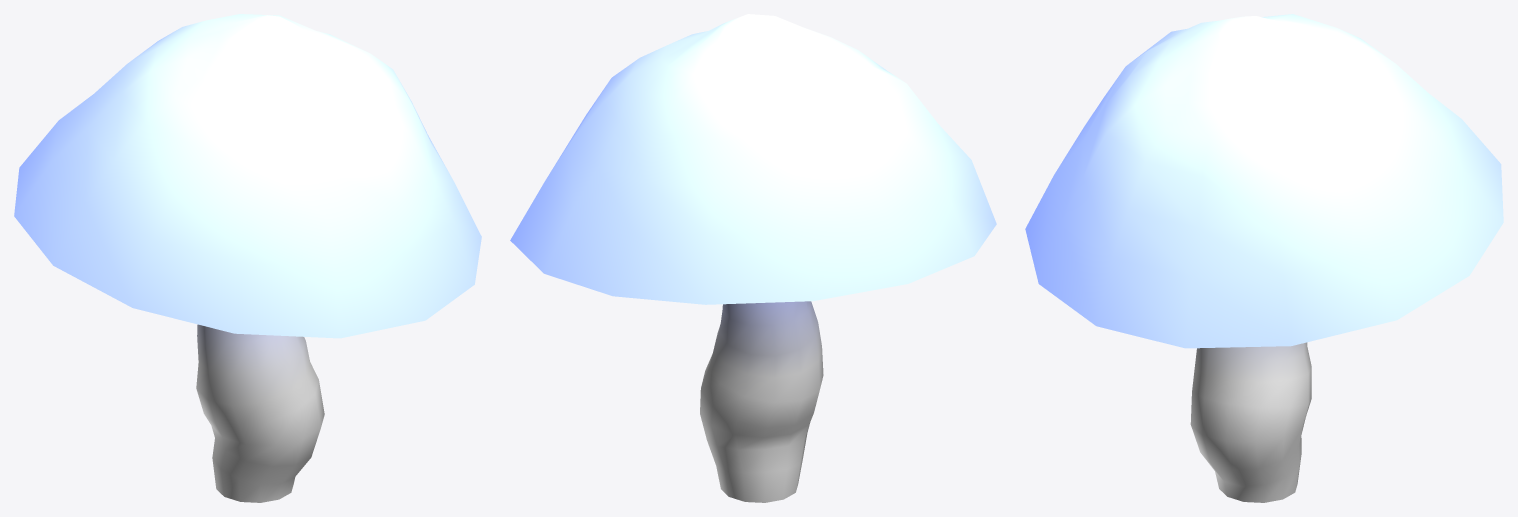
File: mushroom_8.glb
The picture shows the model from 3 angles, left to right: view 1: azimuth 30°, elevation 25°; view 2: azimuth 150°, elevation 25°; view 3: azimuth 270°, elevation 25°; orthographic projection.
Visible parts, largest first — view 1: geo1; view 2: geo1; view 3: geo1.
Part boxes in pixels (x1,y1,x2,y2): geo1: (14,14,481,502); geo1: (510,14,996,502); geo1: (1025,14,1503,502).
Bounding box in the file's own units: 0.2737 × 0.2963 × 0.2731.
